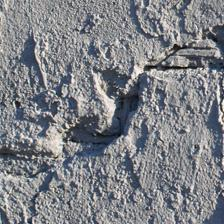Crack: (59, 81, 147, 160), (147, 31, 223, 73)
